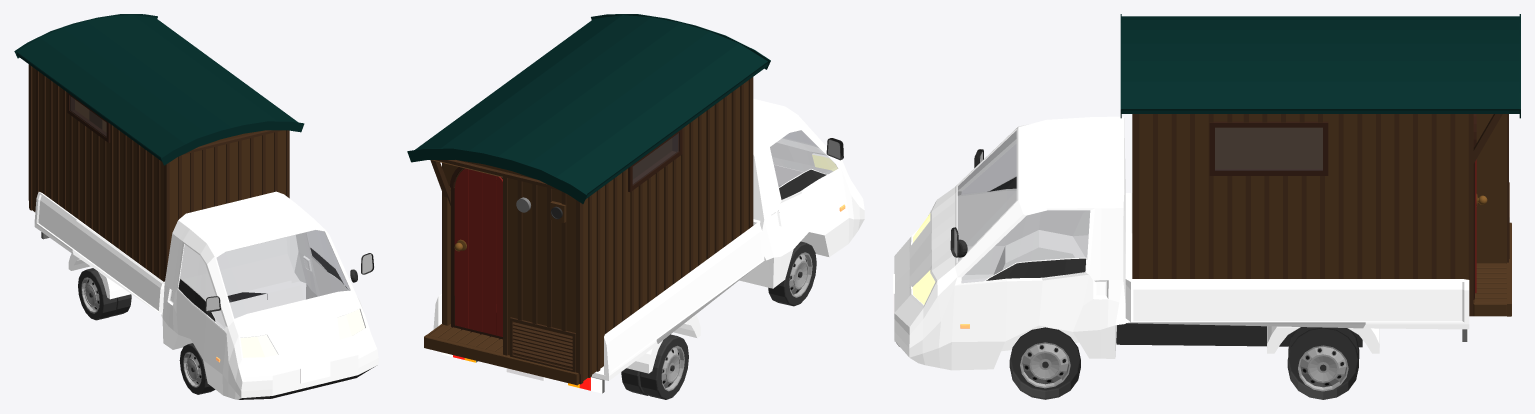
The model's file is bongo_20260712_03.glb.
The picture shows the model from 3 angles, left to right: view 1: azimuth 30°, elevation 25°; view 2: azimuth 150°, elevation 25°; view 3: azimuth 270°, elevation 25°; orthographic projection. The views are drawn at different scales.
Visible parts, largest first — view 1: bongo_body, roof, wall_right, oshibuchi_right, wall_front, 平面.004, tire_rr_outside, 平面.003, tire_fr, wheel_rr, wheel_fr, number_f (+3 smaller); view 2: roof, bongo_body, wall_right, oshibuchi_right, door, wall_rear, oshibuchi_rear, 立方体.006, 立方体.004, tire_rr_outside, 平面.003, floor (+10 smaller); view 3: bongo_body, roof, wall_left, oshibuchi_left, window_left, wall_right, wall_door_side, tire_rl_outside, tire_fl, wheel_fl, wheel_rl, roof_connect_left (+3 smaller).
Boxes of the visible parts, <box> form: bongo_body: <box>34,191,378,399</box>; roof: <box>14,14,304,165</box>; wall_right: <box>32,67,170,281</box>; oshibuchi_right: <box>29,65,165,281</box>; wall_front: <box>170,130,284,244</box>; 平面.004: <box>166,130,289,273</box>; tire_rr_outside: <box>78,268,117,320</box>; 平面.003: <box>68,93,107,140</box>; tire_fr: <box>179,343,215,394</box>; wheel_rr: <box>81,277,99,313</box>; wheel_fr: <box>183,352,201,387</box>; number_f: <box>300,361,330,383</box>; roof: <box>407,14,770,203</box>; bongo_body: <box>433,98,864,380</box>; wall_right: <box>575,80,748,370</box>; oshibuchi_right: <box>579,78,752,384</box>; door: <box>454,168,502,336</box>; wall_rear: <box>508,178,575,368</box>; oshibuchi_rear: <box>503,177,580,374</box>; 立方体.006: <box>424,335,579,385</box>; 立方体.004: <box>512,322,572,367</box>; tire_rr_outside: <box>639,334,688,399</box>; 平面.003: <box>631,130,681,189</box>; floor: <box>429,324,603,380</box>; bongo_body: <box>894,116,1469,370</box>; roof: <box>1120,14,1520,118</box>; wall_left: <box>1139,114,1468,279</box>; oshibuchi_left: <box>1134,114,1473,316</box>; window_left: <box>1212,125,1325,173</box>; wall_right: <box>1215,127,1322,168</box>; wall_door_side: <box>1476,114,1501,263</box>; tire_rl_outside: <box>1287,327,1358,399</box>; tire_fl: <box>1009,327,1080,399</box>; wheel_fl: <box>1020,342,1070,388</box>; wheel_rl: <box>1298,345,1348,391</box>; roof_connect_left: <box>1121,110,1519,113</box>.
Bounding box in the file's own units: 1.99 × 2.75 × 5.
21 materials, 1 textured.
